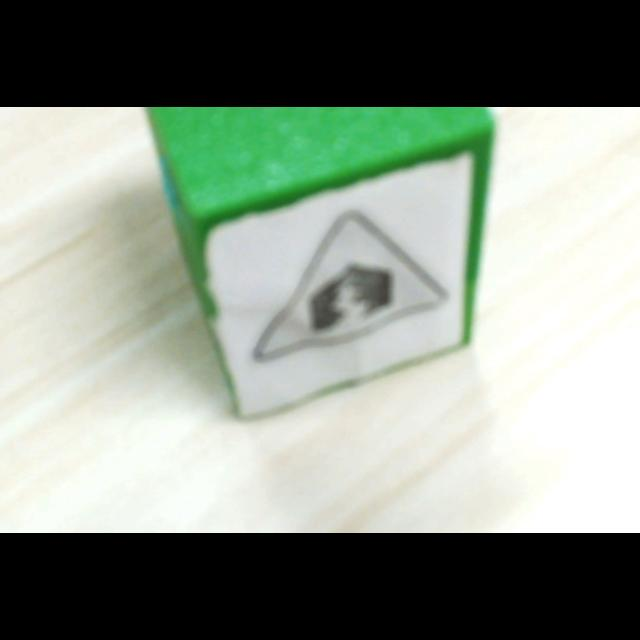Earthquake: (254, 211, 448, 361)
